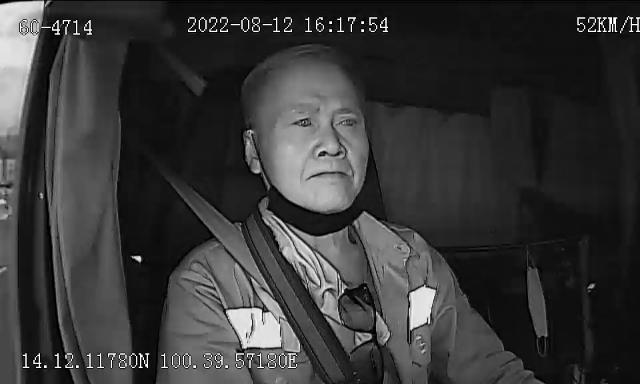SafeDriving: (286, 106, 322, 132), (330, 107, 365, 133)
Seatbelt: (152, 162, 400, 384)
